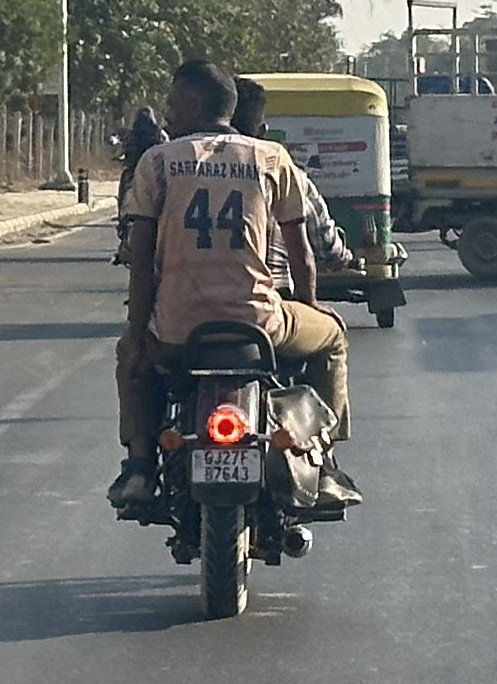BikeWithRider: (96, 49, 372, 627), (108, 89, 178, 267)
NoHelmet: (159, 53, 241, 143), (215, 70, 277, 143), (136, 104, 157, 130)
